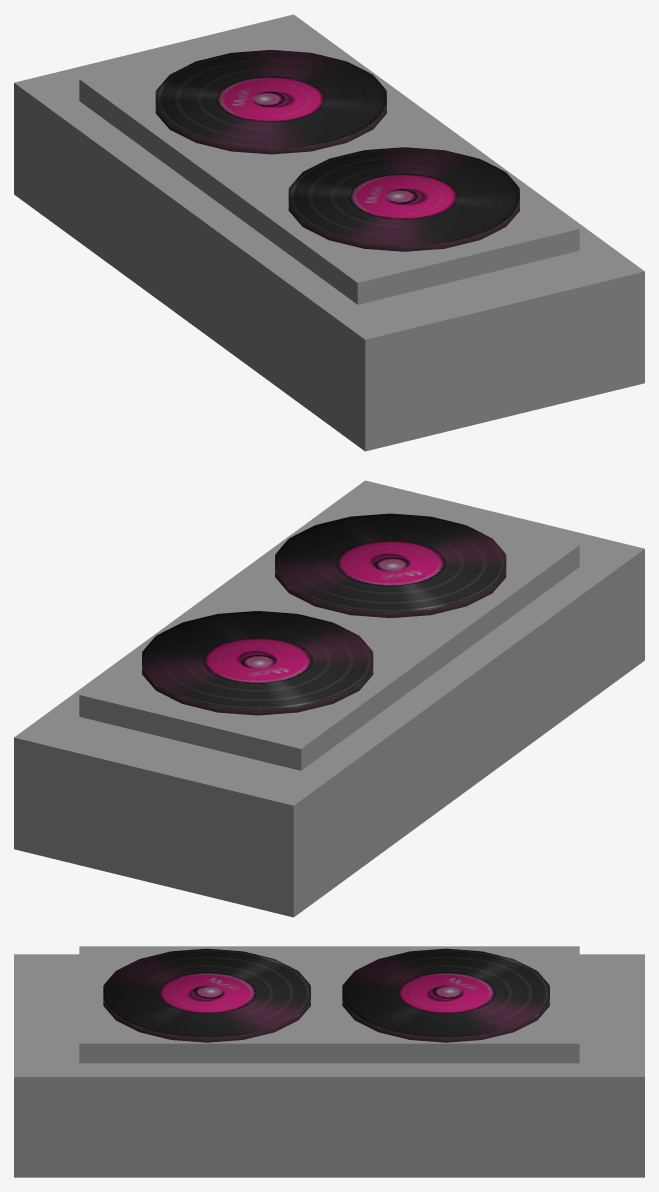
The model's file is DJTable_01.FBX.
The picture shows the model from 3 angles, top to bottom: view 1: azimuth 30°, elevation 25°; view 2: azimuth 150°, elevation 25°; view 3: azimuth 270°, elevation 25°; orthographic projection. The views are drawn at different scales.
Visible parts, largest first — view 1: DJTable_01; view 2: DJTable_01; view 3: DJTable_01.
Part boxes in pixels (bbox=[...]): DJTable_01: bbox=[14, 14, 644, 451]; DJTable_01: bbox=[14, 480, 644, 917]; DJTable_01: bbox=[14, 946, 644, 1177].
Size of the model in its own units: 65.67 by 31.45 by 143.
